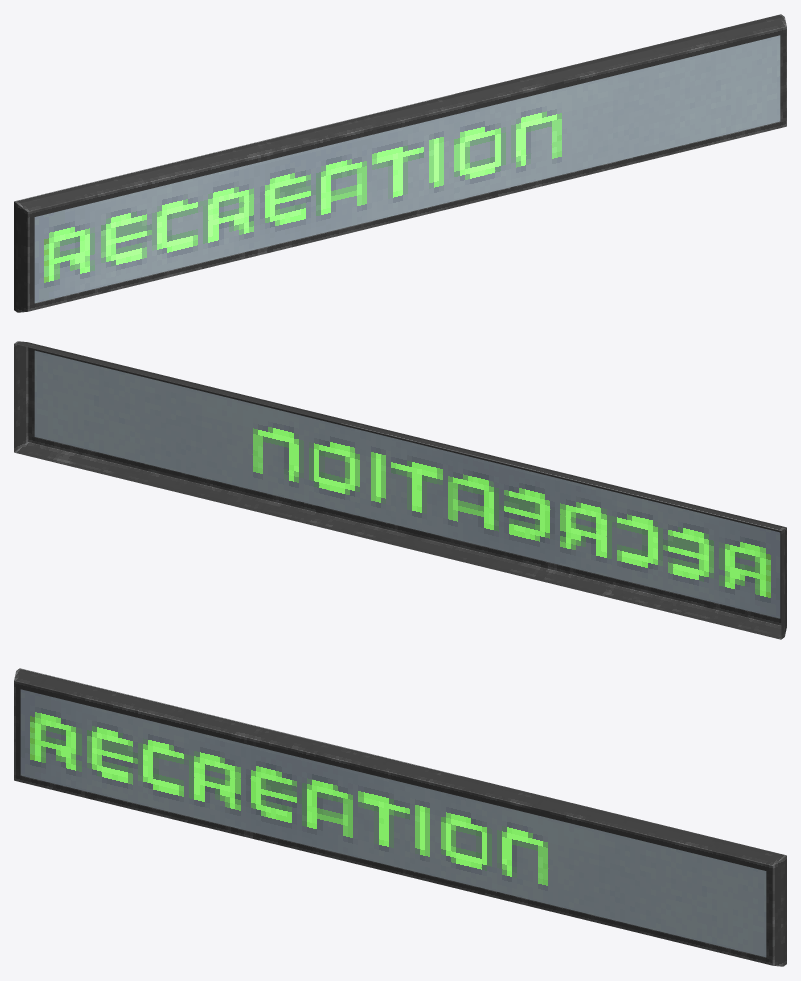
Rendered from large_recreation.glb.
3 renders of one model, top to bottom at view 1: azimuth 30°, elevation 25°; view 2: azimuth 150°, elevation 25°; view 3: azimuth 330°, elevation 25°, orthographic.
Visible parts, largest first — view 1: Sign-Large_Recreation; view 2: Sign-Large_Recreation; view 3: Sign-Large_Recreation.
Part boxes in pixels (x1=…): Sign-Large_Recreation: x1=14, y1=14, x2=786, y2=312; Sign-Large_Recreation: x1=14, y1=341, x2=786, y2=639; Sign-Large_Recreation: x1=14, y1=668, x2=786, y2=966.
Bounding box in the file's own units: 18.61 × 2.52 × 0.4128.
Materials: 1 (1 with a texture image).
